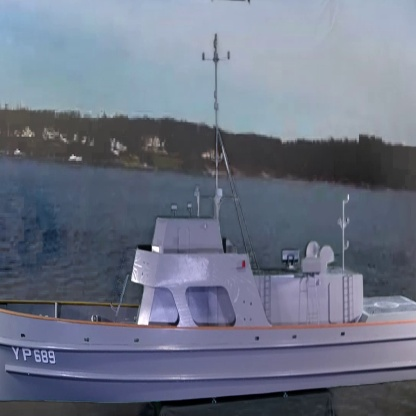YP689: (0, 10, 416, 406)
